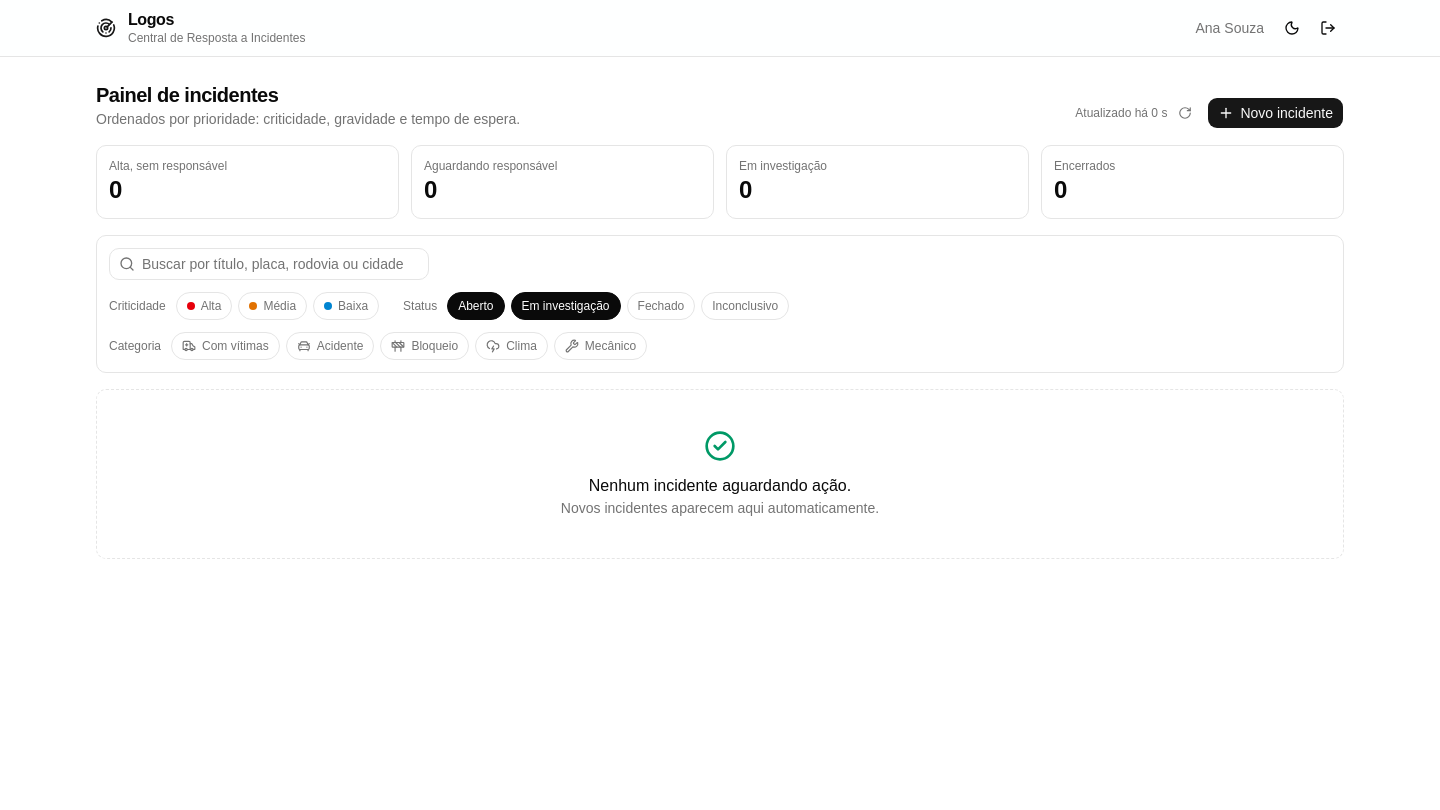
Test case: criar incidente › rejeita Rodovia inválida
The image size is (1440, 810).
Click the button "Novo incidente": click(1276, 113) [1207, 97, 1344, 129]
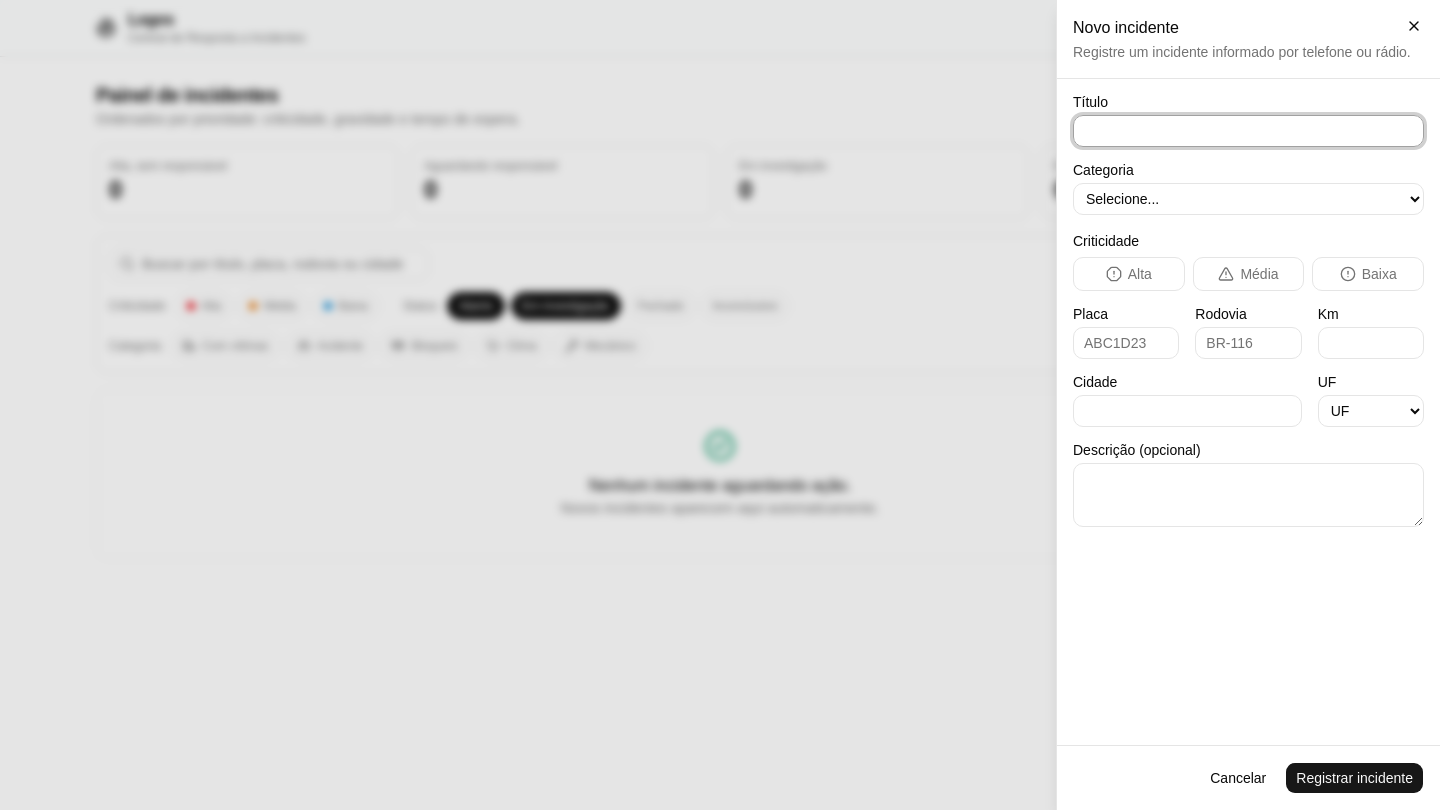
In the field labelled "Rodovia": (1248, 343) [1195, 327, 1302, 359], type "Rodovia 116"
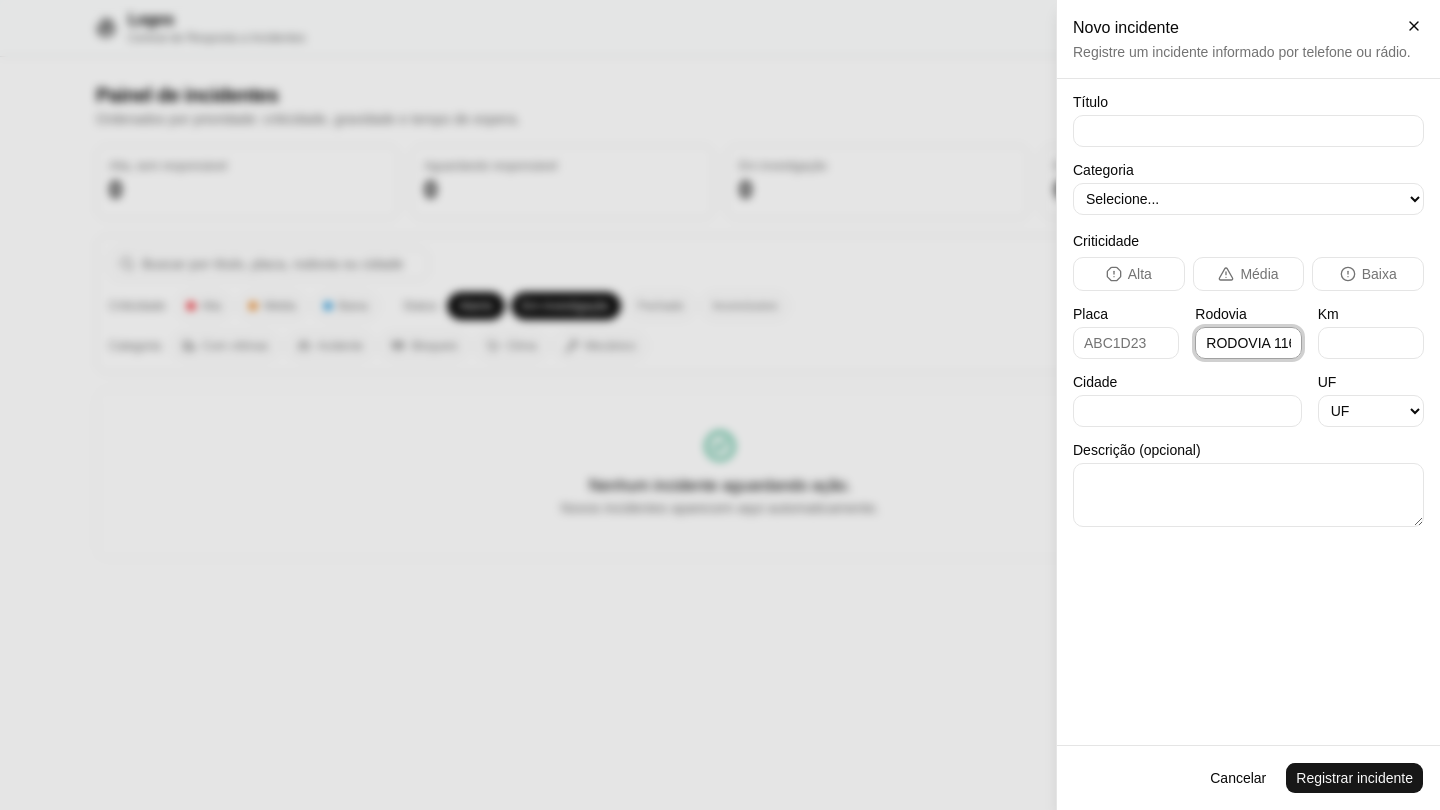
Click the button "Registrar incidente": click(1355, 778) [1285, 762, 1424, 794]
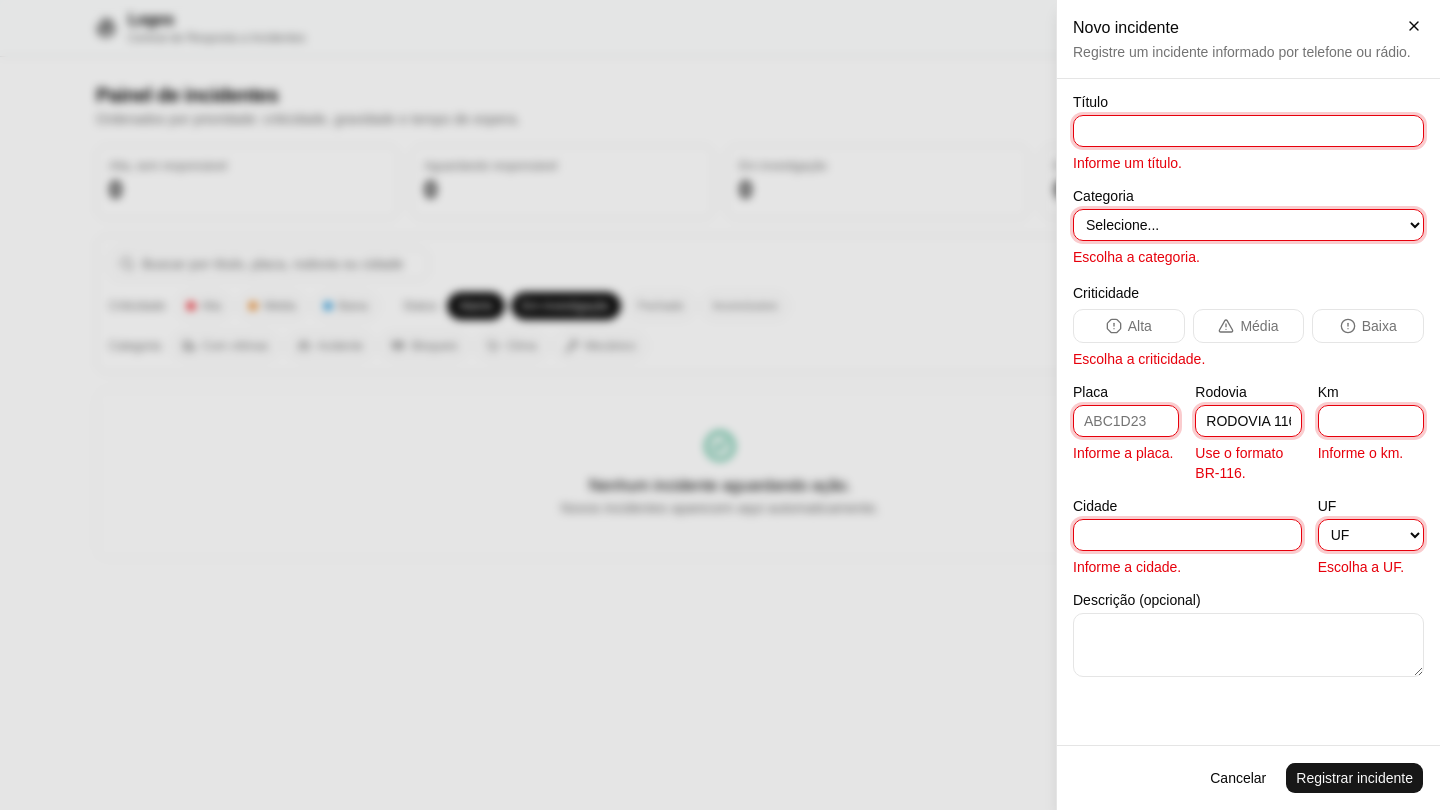
Expected: the text "Use o formato BR-116." is shown, [1195, 445, 1283, 481]
